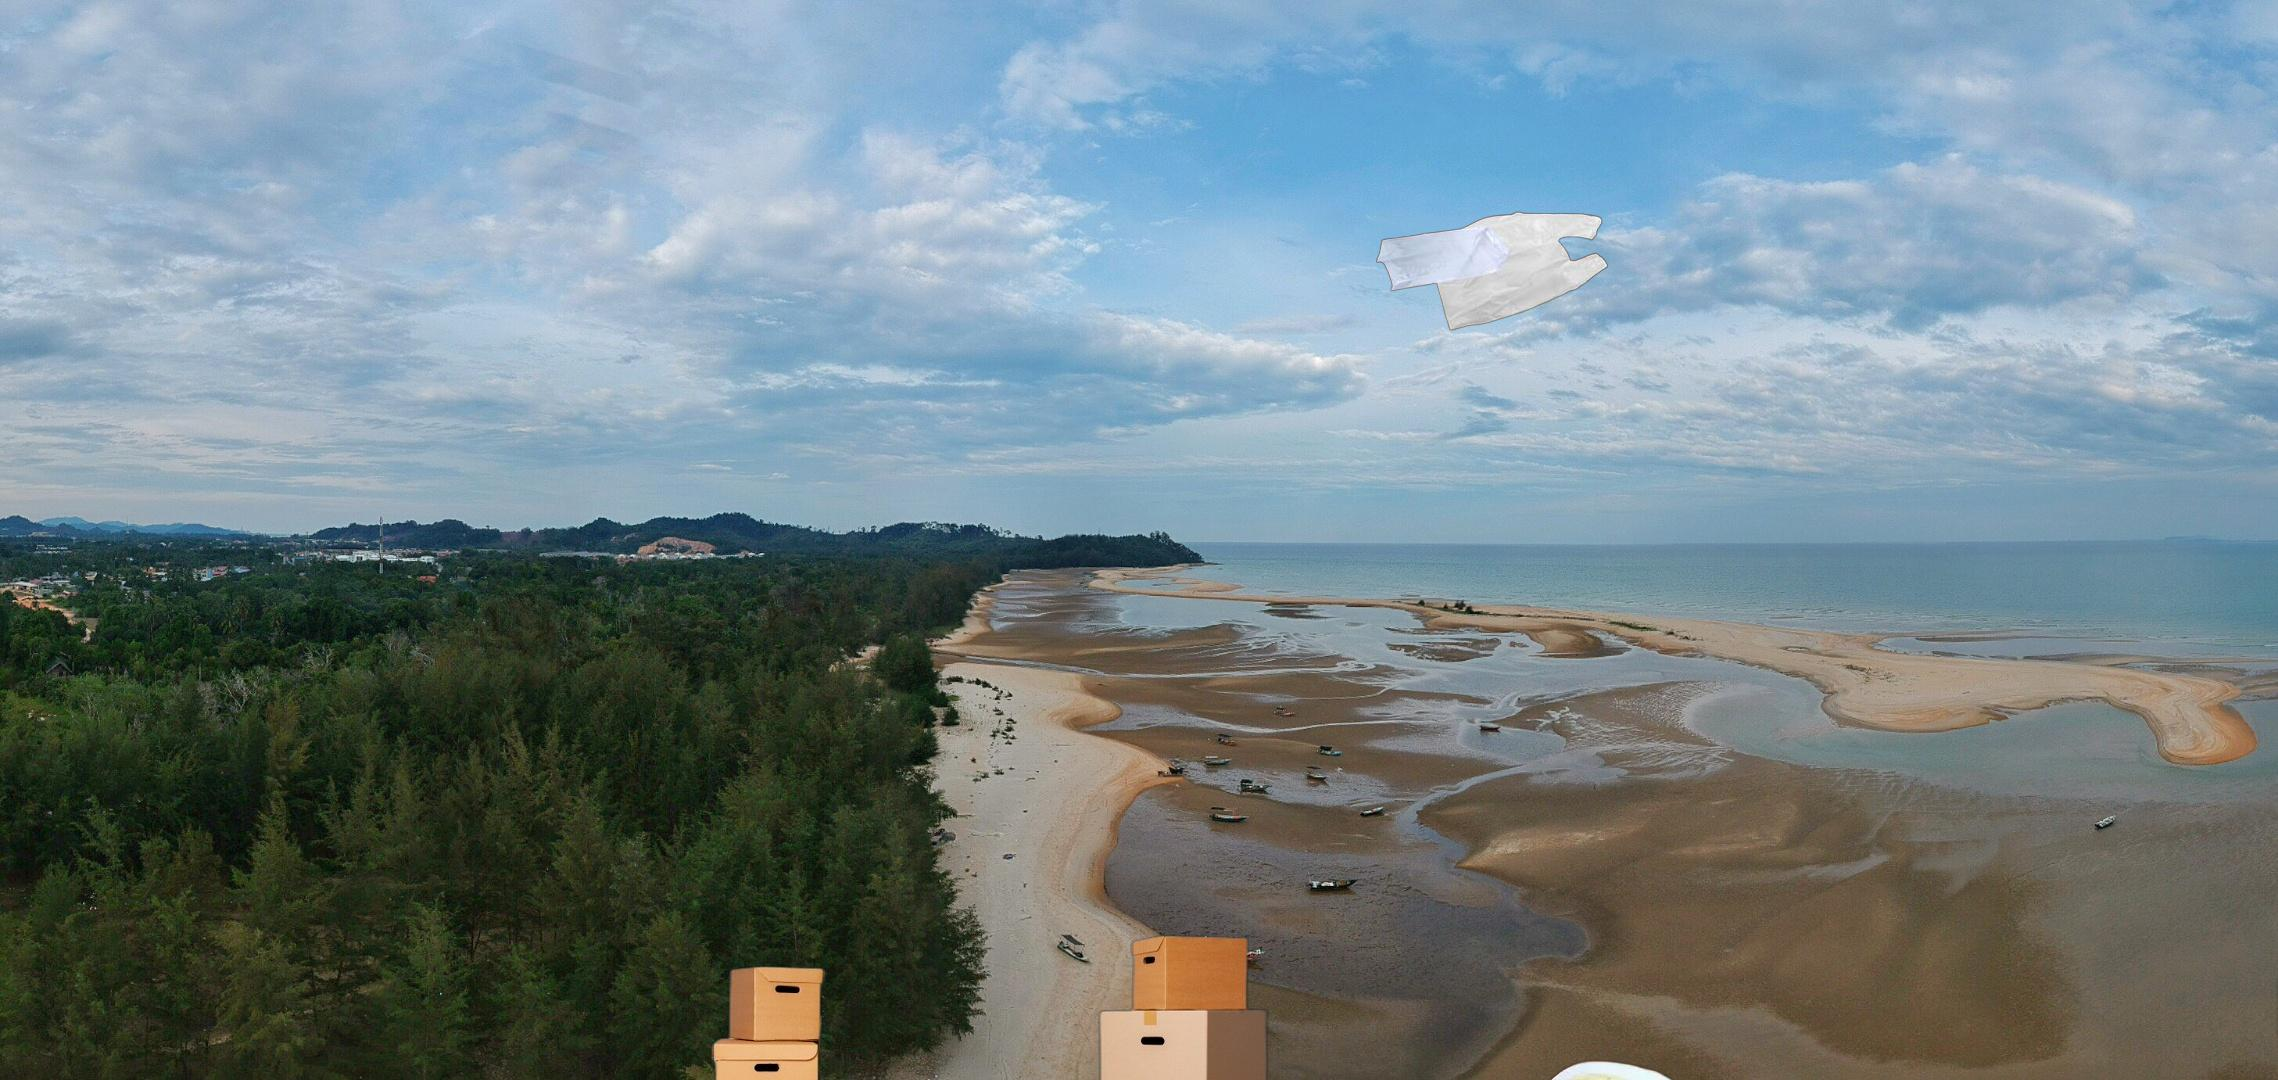biological: (1416, 1058, 1780, 1080)
penholder: (2271, 783, 2278, 1080)
plastic-bag: (1373, 209, 1610, 333)
trashbox-cardboard: (702, 933, 1273, 1080)
